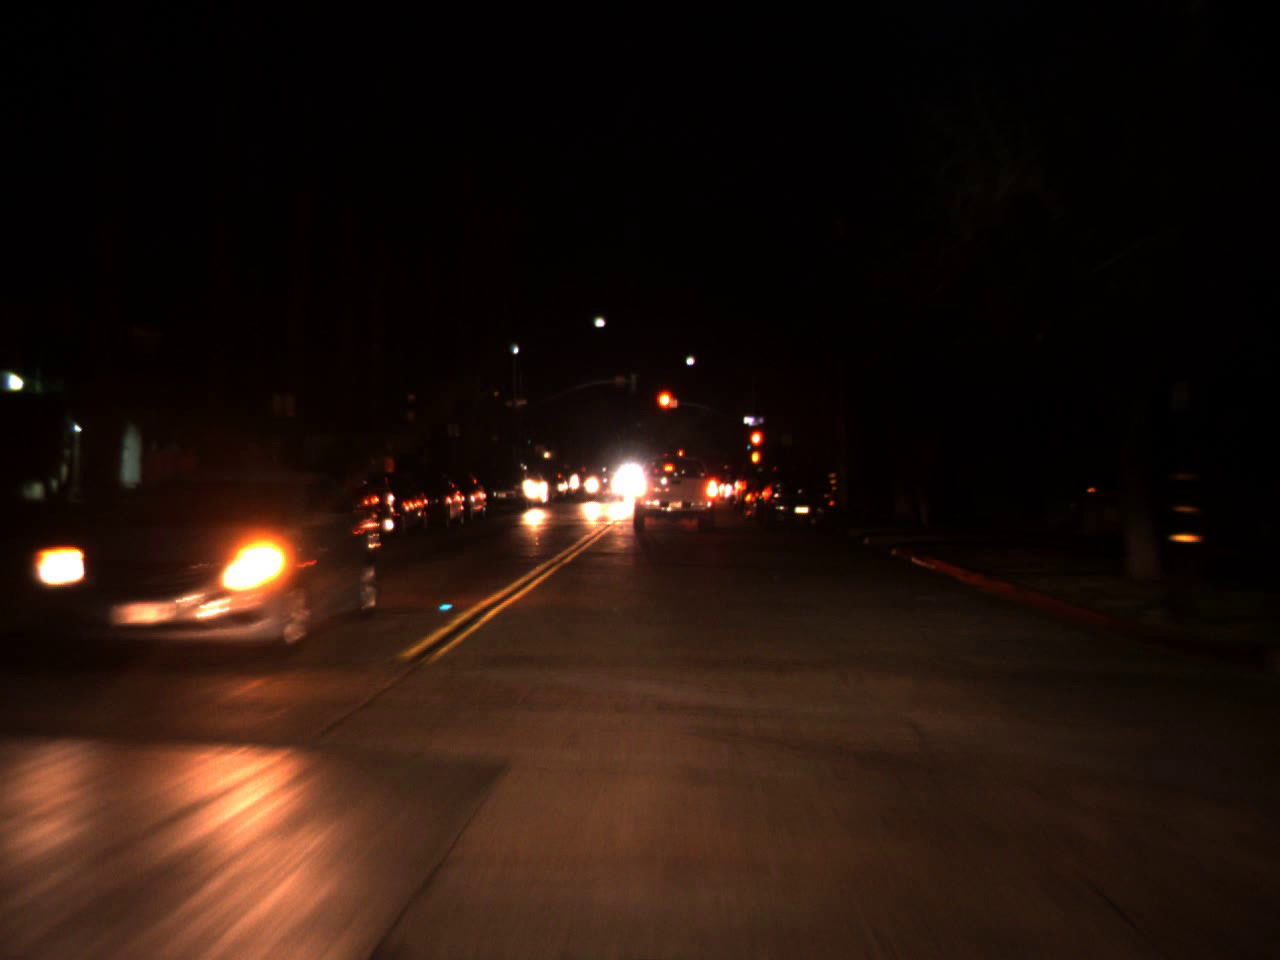stop: (653, 388, 680, 431), (747, 428, 765, 465)
